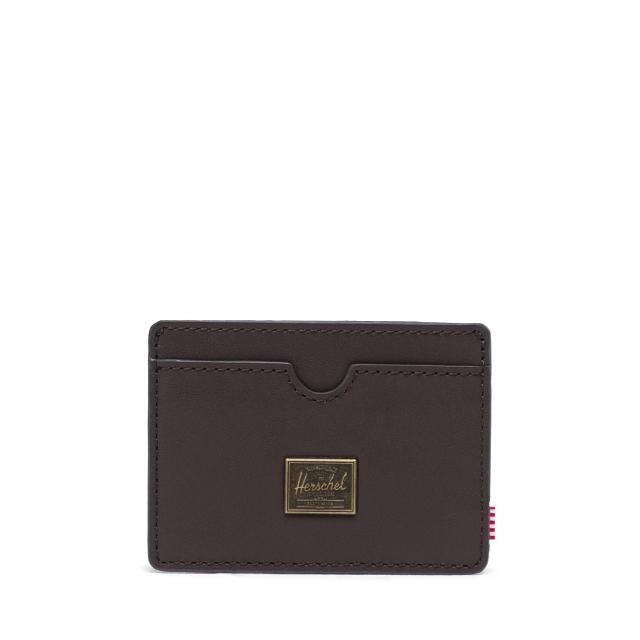wallet: (138, 314, 492, 580)
